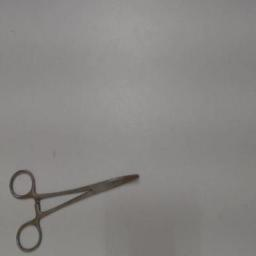Crile Artery Forceps: (7, 164, 143, 254)
